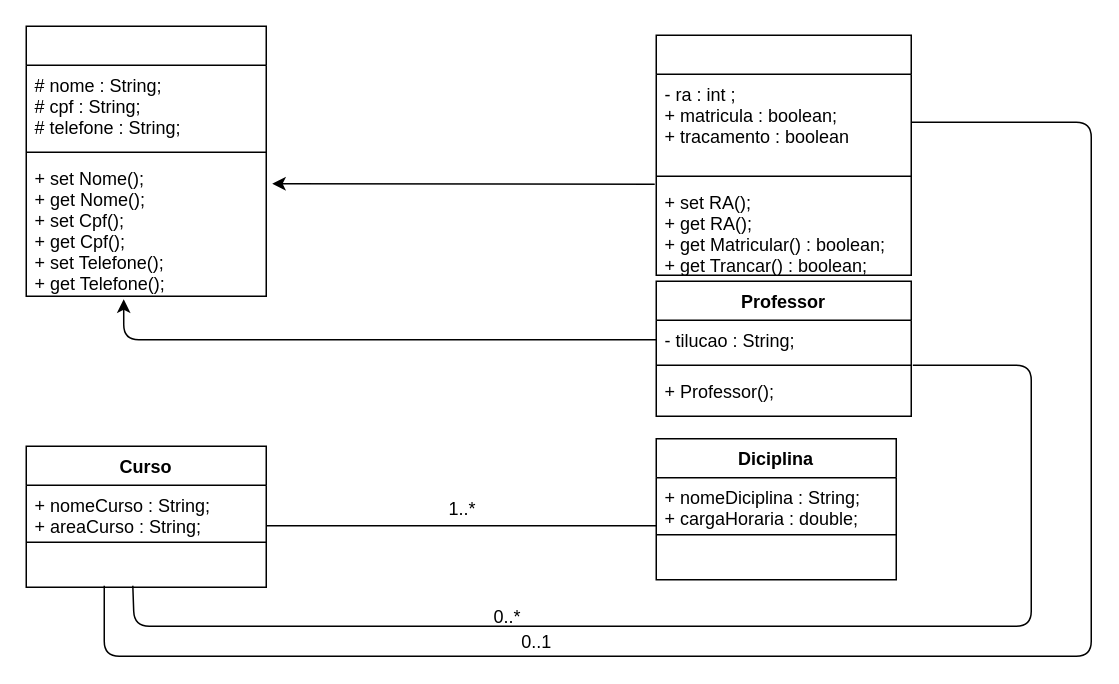
This 1119x684 diagram has some shape labels left out. The shapes that lost their labels are listed below. From the top down, each one's box as (x1, y1, x2, y2) in pixels, then its label:
(25, 25, 266, 296): Pessoa
(655, 34, 911, 275): Aluno
